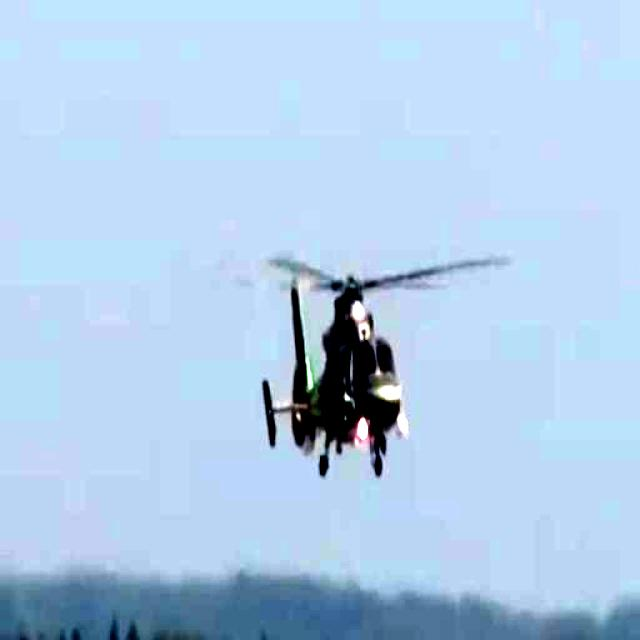drone: (238, 211, 459, 488)
